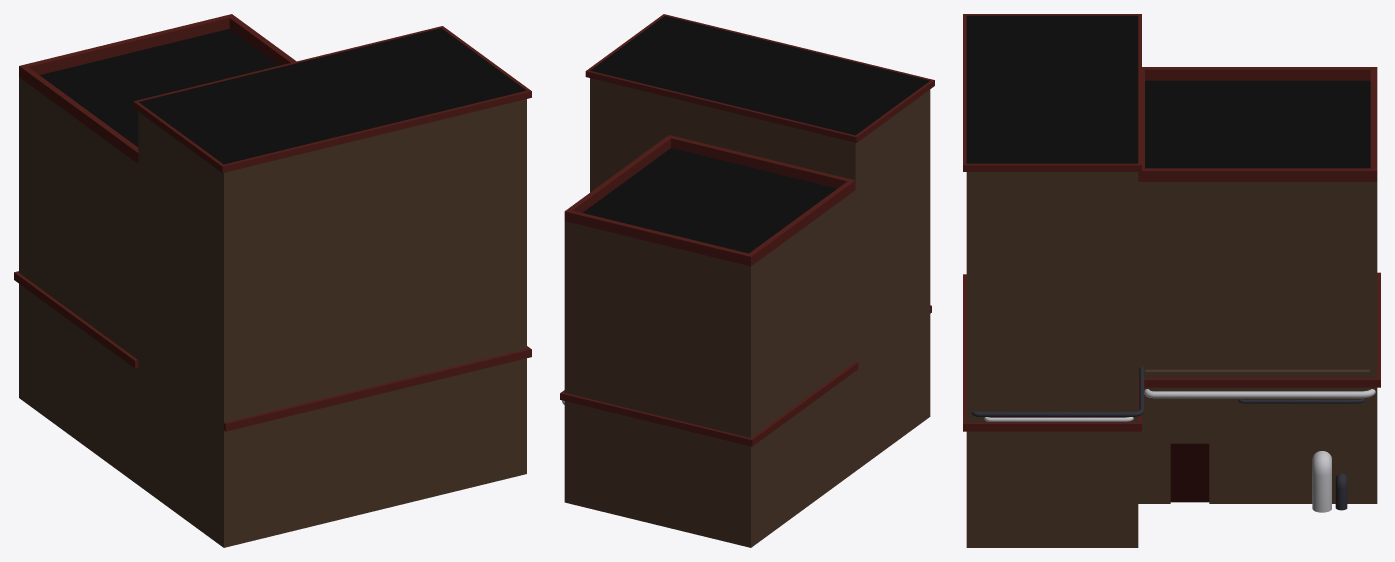
File: BuildingVer10.fbx
3 renders of one model, left to right at view 1: azimuth 30°, elevation 25°; view 2: azimuth 150°, elevation 25°; view 3: azimuth 270°, elevation 25°, orthographic. The views are drawn at different scales.
Parts seen in each view (by area): view 1: Box003; view 2: Box003; view 3: Box003.
Part boxes in pixels (bbox=[...]): Box003: bbox=[14, 14, 531, 547]; Box003: bbox=[560, 14, 934, 547]; Box003: bbox=[963, 14, 1380, 547].
Size of the model in its own units: 634 by 748 by 737.
